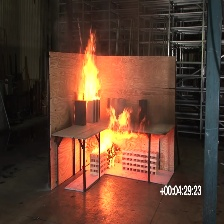fire: (77, 29, 106, 106), (102, 111, 142, 166)
